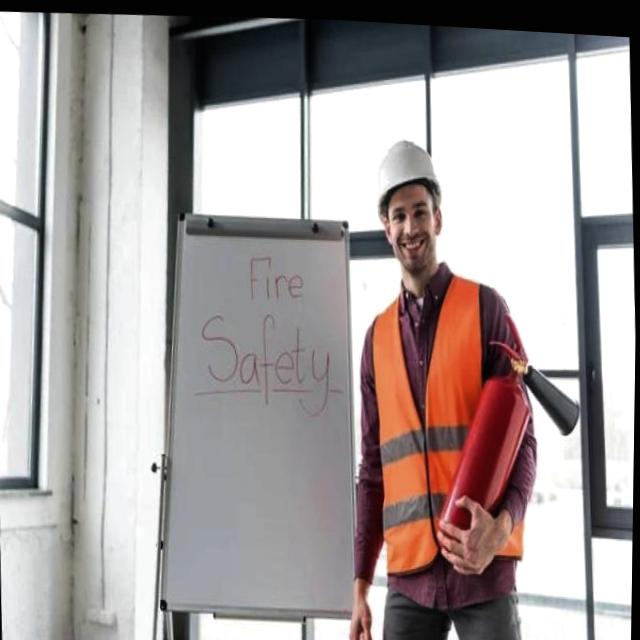FireExtinguisher: (424, 295, 589, 564)
